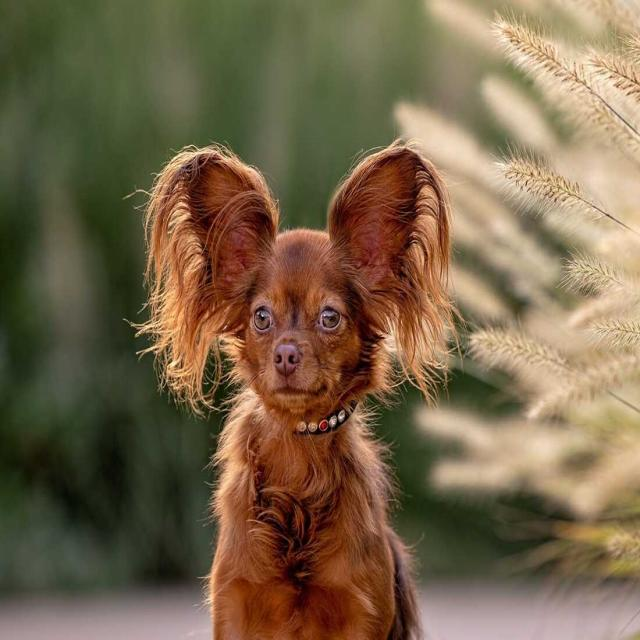dogs: (121, 131, 468, 640)
